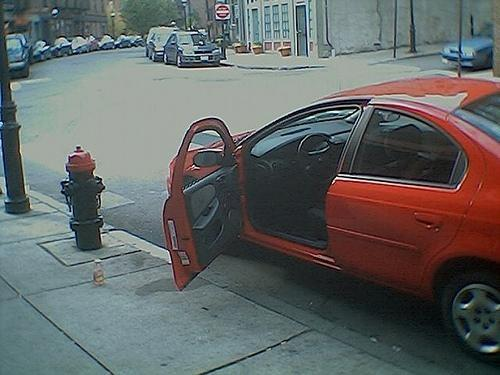car: (162, 76, 500, 368), (438, 20, 494, 70), (163, 28, 222, 67), (146, 24, 180, 62), (6, 32, 32, 78), (31, 38, 51, 64), (50, 38, 74, 56), (68, 36, 89, 54), (84, 34, 100, 52), (98, 34, 115, 50), (116, 35, 130, 48), (130, 38, 146, 46)
